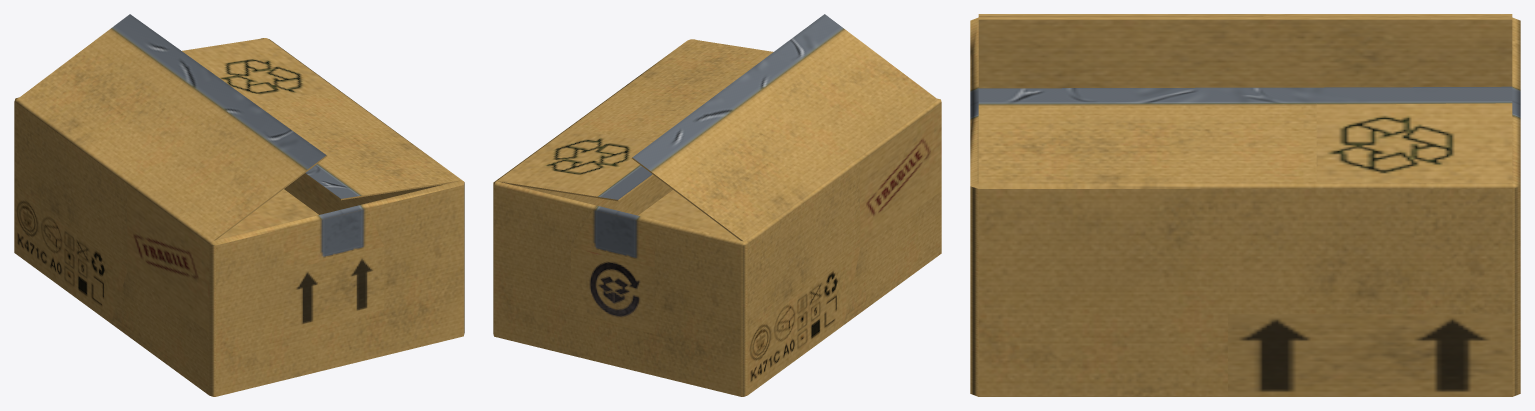
Rendered from cardboard_open_02.fbx.
3 views of the same model, side by side, from view 1: azimuth 30°, elevation 25°; view 2: azimuth 150°, elevation 25°; view 3: azimuth 270°, elevation 25° (orthographic). The views are drawn at different scales.
Parts seen in each view (by area): view 1: cardboard_open_02; view 2: cardboard_open_02; view 3: cardboard_open_02.
Part boxes in pixels (box(x1,y1,x2,y2)): cardboard_open_02: box(14, 14, 464, 396); cardboard_open_02: box(493, 14, 941, 396); cardboard_open_02: box(970, 14, 1520, 396).
Size of the model in its own units: 72.02 by 57.71 by 98.15.
